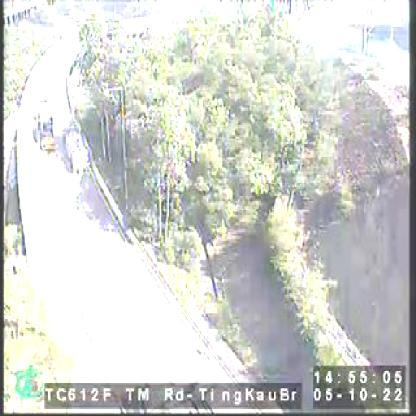Truck: (61, 123, 89, 170)
